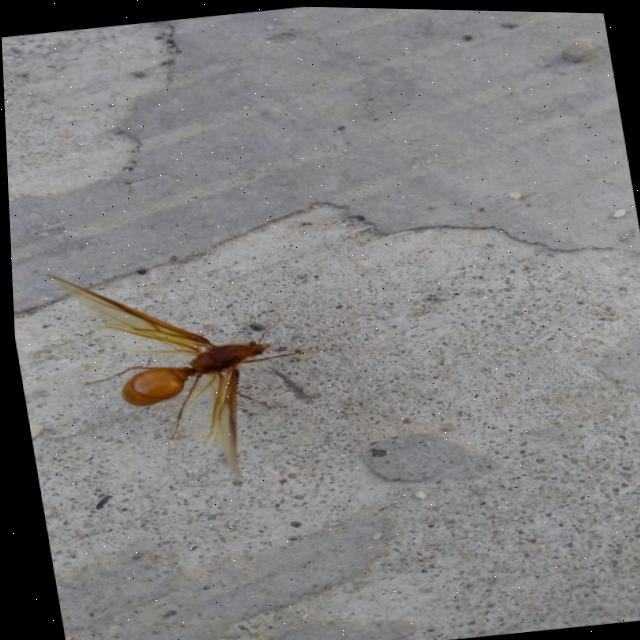Alive-Male-Alate: (41, 240, 346, 505)
